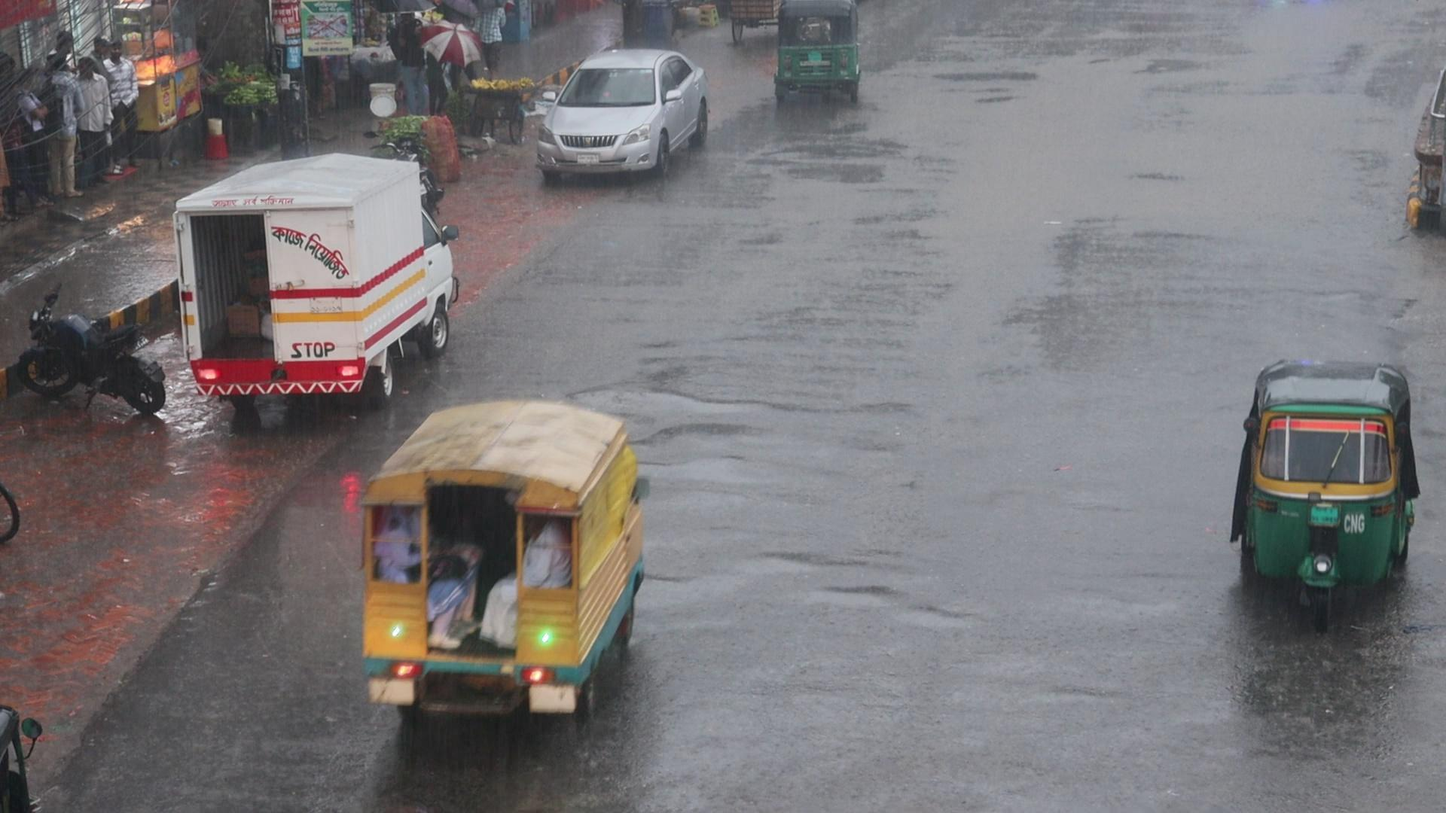Truck: (361, 398, 654, 742)
